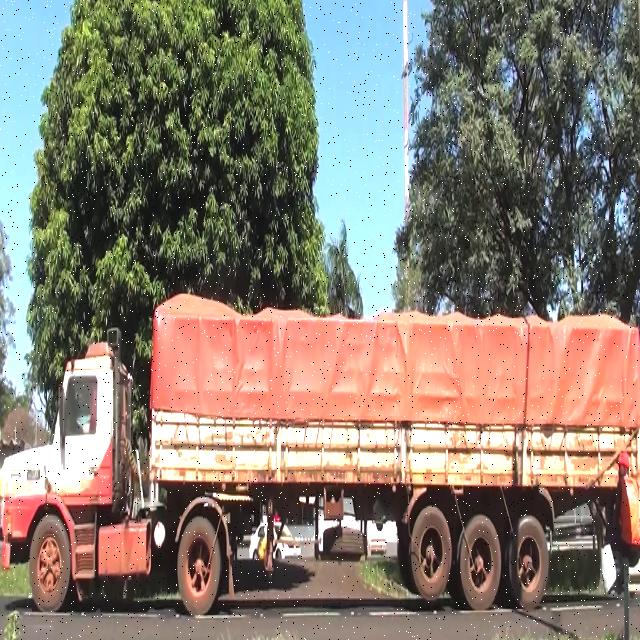-axle: (177, 515, 221, 618), (406, 506, 452, 604), (29, 515, 71, 618), (507, 516, 550, 610), (460, 514, 501, 608)
